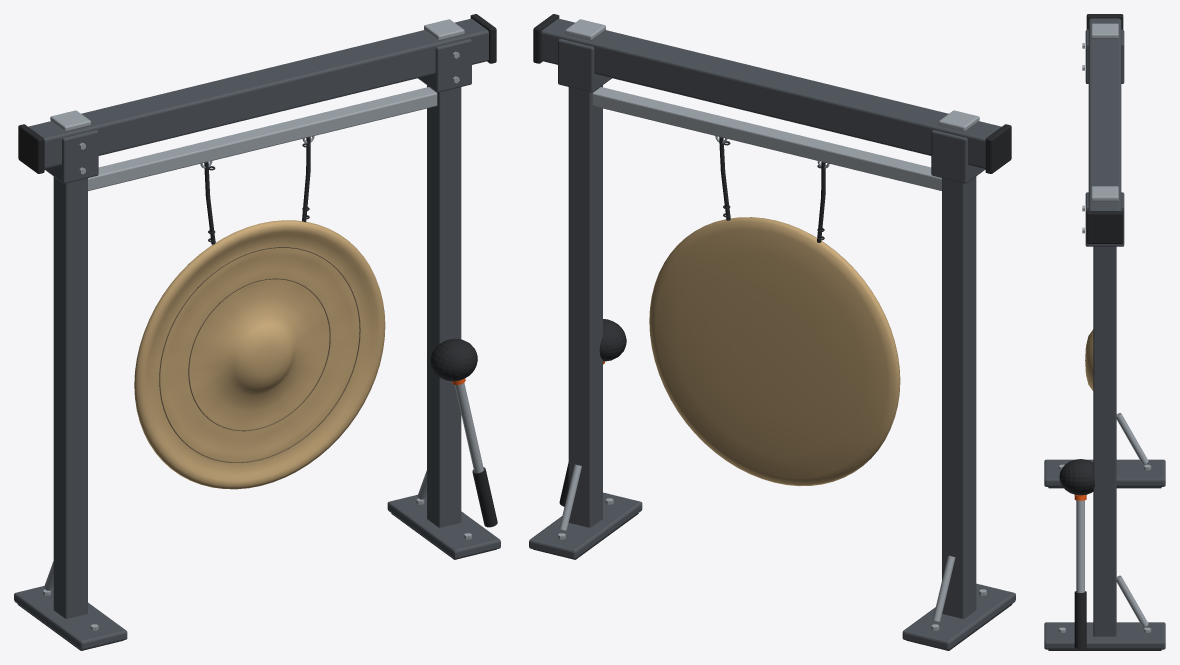
Rendered from merge-gong.glb.
3 views of the same model, side by side, from view 1: azimuth 30°, elevation 25°; view 2: azimuth 150°, elevation 25°; view 3: azimuth 270°, elevation 25° (orthographic). The views are drawn at different scales.
Parts seen in each view (by area): view 1: GongFrame, GongDisc, GongCords; view 2: GongFrame, GongDisc, GongCords; view 3: GongFrame, GongDisc.
Part boxes in pixels (x1=…): GongFrame: x1=14, y1=14, x2=500, y2=650; GongDisc: x1=134, y1=220, x2=385, y2=489; GongCords: x1=204, y1=137, x2=310, y2=244; GongFrame: x1=529, y1=14, x2=1015, y2=650; GongDisc: x1=649, y1=217, x2=900, y2=486; GongCords: x1=719, y1=137, x2=825, y2=242; GongFrame: x1=1044, y1=14, x2=1165, y2=650; GongDisc: x1=1085, y1=329, x2=1093, y2=390.
Size of the model in its own units: 2.33 by 2.45 by 0.6.
